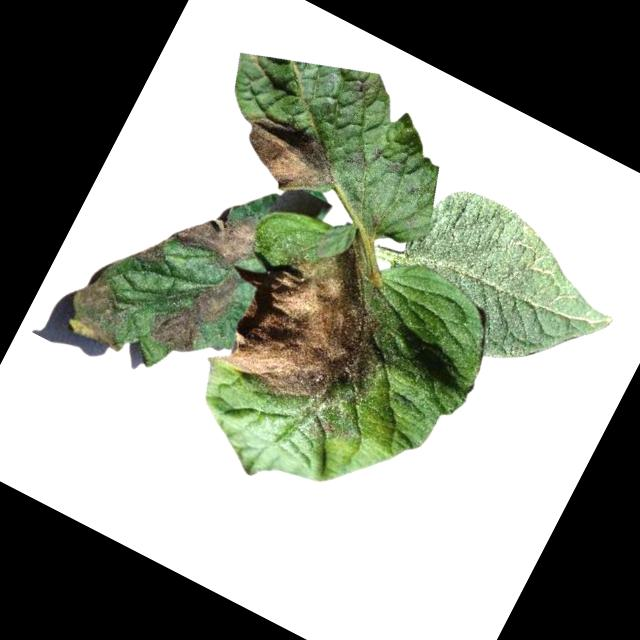Late_blight: (210, 198, 430, 433), (221, 102, 346, 206), (142, 247, 247, 367), (168, 186, 274, 279), (55, 262, 151, 356), (132, 230, 173, 271)
